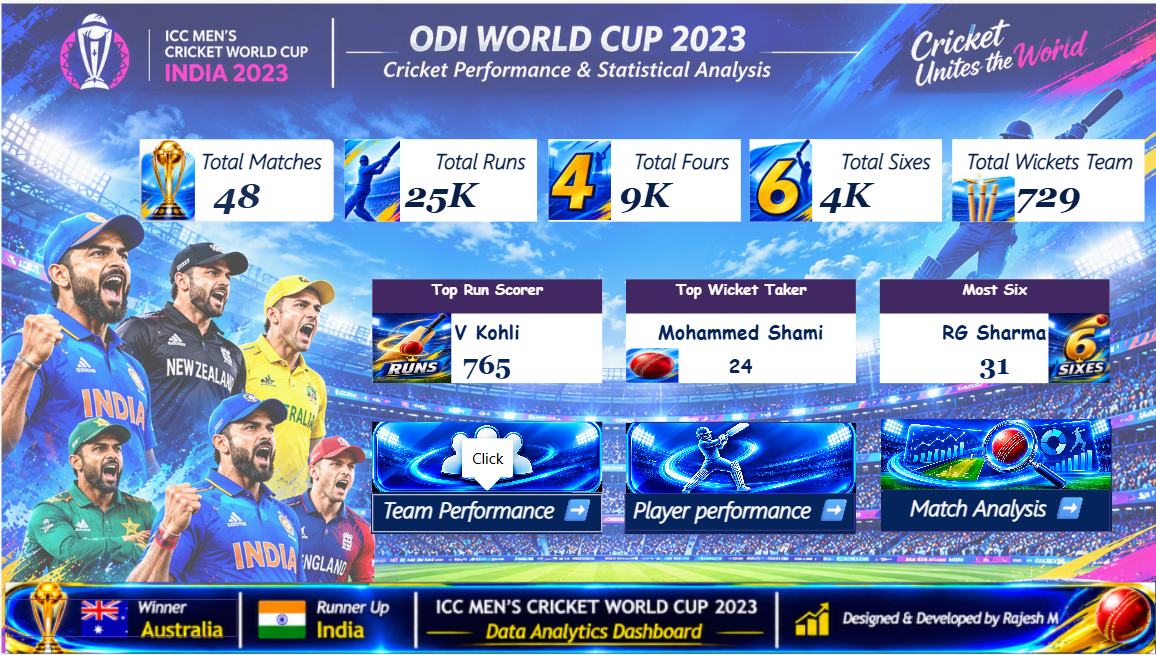

What the dashboard file says about the page in this screenshot:
{"tool":"powerbi","page":{"name":"HOME","canvas":[1920,1080],"ordinal":0},"visuals":[{"type":"cardVisual","title":"TOTAL MATCHES","fields":{"Data":["ODI 2023.Total Matches"]},"box":[323.9,262.4,280.5,119.4],"z":0},{"type":"cardVisual","title":"TOTAL RUNS","fields":{"Data":["ODI 2023.Total Runs"]},"box":[620.7,262.4,278.7,119.4],"z":1000},{"type":"cardVisual","title":"TOTAL FOURS","fields":{"Data":["ODI 2023.Total Fours"]},"box":[915.7,262.4,278.7,119.4],"z":2000},{"type":"cardVisual","title":"TOTAL SIXES","fields":{"Data":["ODI 2023.Total Sixs"]},"box":[1207,262.4,278.7,119.4],"z":3000},{"type":"cardVisual","title":"TOTAL WICKETS","fields":{"Data":["ODI 2023.Total Wickets Team"]},"box":[1500.2,262.4,278.7,119.4],"z":4000},{"type":"image","box":[323.9,262.4,79.6,119.4],"z":5000},{"type":"image","box":[620.7,262.4,79.6,119.4],"z":6000},{"type":"image","box":[915.7,262.4,90.5,119.4],"z":7000},{"type":"image","box":[1207,262.4,90.5,119.4],"z":8000},{"type":"image","box":[1500.2,309.5,90.5,72.4],"z":9000},{"type":"cardVisual","title":"Top Run Scorer","fields":{"Data":["ODI 2023.Top Run Scorer Name","ODI 2023.Top Run Scorer Runs"]},"box":[660.5,465.1,333,150.2],"z":10000},{"type":"cardVisual","title":"Top Wicket Taker","fields":{"Data":["ODI 2023.Top Wicket Taker Name","ODI 2023.Top Wicket Taker Wickets"]},"box":[1027.9,465.1,333,150.2],"z":11000},{"type":"cardVisual","title":"Most Six ","fields":{"Data":["ODI 2023.Most Sixes Player","ODI 2023.Most Sixes Count"]},"box":[1395.2,465.1,333,150.2],"z":12000},{"type":"image","box":[660.5,513.9,114,101.3],"z":13000},{"type":"image","box":[1027.9,564.6,76,50.7],"z":14000},{"type":"image","box":[1639.6,513.9,88.7,101.3],"z":15000},{"type":"shape","box":[660.5,671.4,333,162.9],"z":16000},{"type":"textbox","box":[658.7,776.3,334.8,57.9],"z":17000},{"type":"shape","box":[1027.9,671.4,333,162.9],"z":18000},{"type":"textbox","box":[1026.1,776.3,334.8,57.9],"z":19000},{"type":"shape","box":[1398.7,666.9,333,162.9],"z":20000},{"type":"textbox","box":[1396.9,771.9,334.8,57.9],"z":21000},{"type":"shape","box":[660.5,776.3,333,54.3],"z":22000},{"type":"shape","box":[1026.1,774.5,333,54.3],"z":23000},{"type":"shape","box":[1395.2,769.1,333,61.5],"z":24000},{"type":"image","box":[660.5,671.4,333,101.3],"z":25000},{"type":"image","box":[1027.9,673.2,333,101.3],"z":26000},{"type":"image","box":[1397.1,667.8,333,101.3],"z":27000},{"type":"image","box":[128.5,903,1666.7,105],"z":28000},{"type":"shape","box":[132.1,928.4,333,54.3],"z":28001}]}

Visuals, with their boxes in screenshot pixels (x1, y1, x2, y2), scaled from the page's 1920x1080 canvas onto the 1156x655 screenshot:
"TOTAL MATCHES" cardVisual: x1=195, y1=159, x2=364, y2=232
"TOTAL RUNS" cardVisual: x1=374, y1=159, x2=542, y2=232
"TOTAL FOURS" cardVisual: x1=551, y1=159, x2=719, y2=232
"TOTAL SIXES" cardVisual: x1=727, y1=159, x2=895, y2=232
"TOTAL WICKETS" cardVisual: x1=903, y1=159, x2=1071, y2=232
image: x1=195, y1=159, x2=243, y2=232
image: x1=374, y1=159, x2=422, y2=232
image: x1=551, y1=159, x2=606, y2=232
image: x1=727, y1=159, x2=781, y2=232
image: x1=903, y1=188, x2=958, y2=232
"Top Run Scorer" cardVisual: x1=398, y1=282, x2=598, y2=373
"Top Wicket Taker" cardVisual: x1=619, y1=282, x2=819, y2=373
"Most Six " cardVisual: x1=840, y1=282, x2=1041, y2=373
image: x1=398, y1=312, x2=466, y2=373
image: x1=619, y1=342, x2=665, y2=373
image: x1=987, y1=312, x2=1041, y2=373
shape: x1=398, y1=407, x2=598, y2=506
textbox: x1=397, y1=471, x2=598, y2=506
shape: x1=619, y1=407, x2=819, y2=506
textbox: x1=618, y1=471, x2=819, y2=506
shape: x1=842, y1=404, x2=1043, y2=503
textbox: x1=841, y1=468, x2=1043, y2=503
shape: x1=398, y1=471, x2=598, y2=504
shape: x1=618, y1=470, x2=818, y2=503
shape: x1=840, y1=466, x2=1041, y2=504
image: x1=398, y1=407, x2=598, y2=469
image: x1=619, y1=408, x2=819, y2=470
image: x1=841, y1=405, x2=1042, y2=466
image: x1=77, y1=548, x2=1081, y2=611
shape: x1=80, y1=563, x2=280, y2=596
